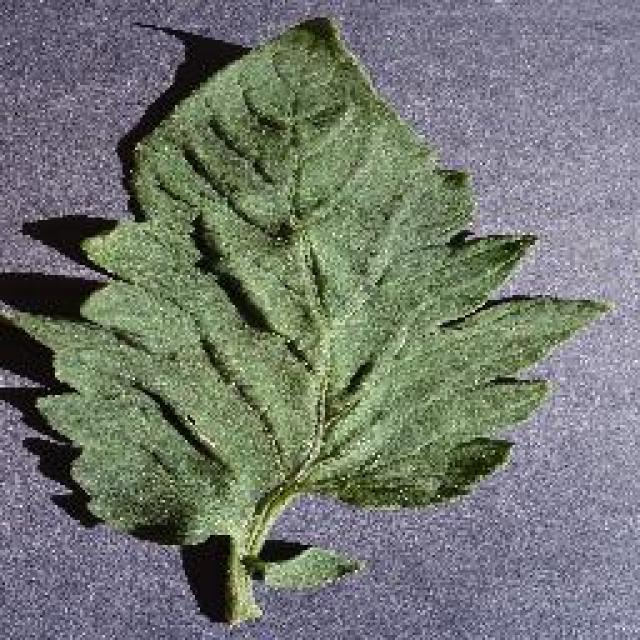Tomato___healthy: (0, 17, 618, 626)
